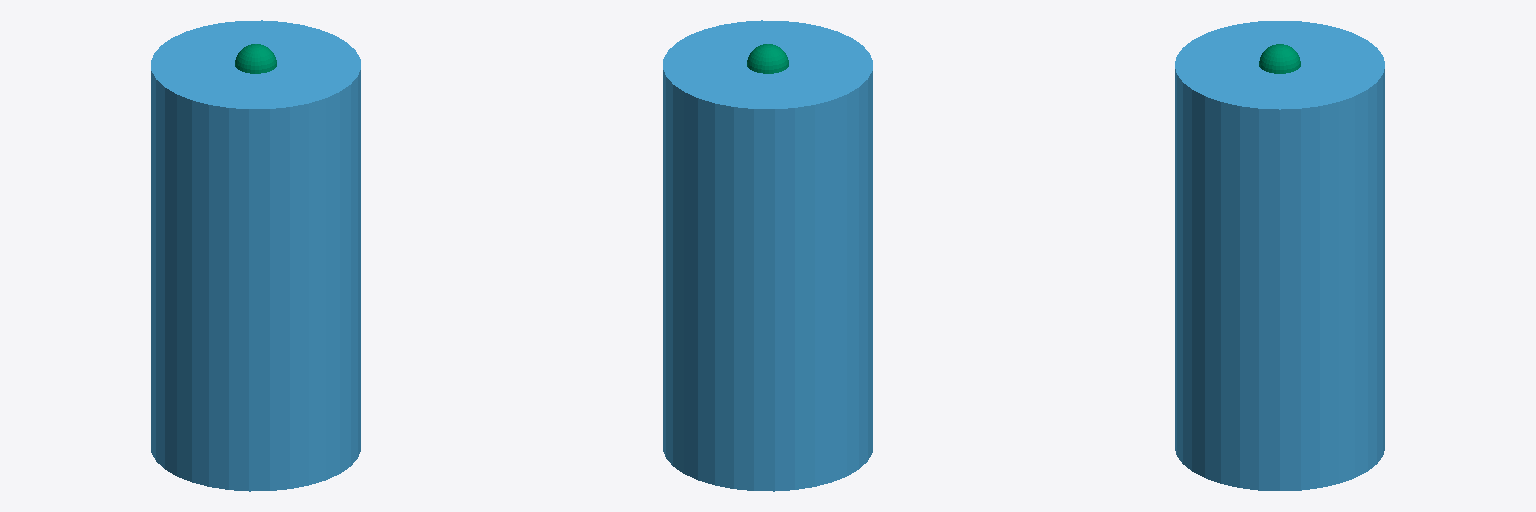
URDF robot description (passive_tool):
<?xml version="1.0" encoding="utf-8"?>
<!--
  ManyForge generic passive tool (OD-336): a neutral placeholder. A project
  replaces this file with its own tool model (see README.md). Links the
  family binds: passive_tool_mount (the root, on the robot flange),
  passive_tool_tcp (the default TCP) and the optional passive_tool_tip (the
  tip, the default TCP's contact body).
-->
<robot name="passive_tool">
  <link name="passive_tool_mount"/>
  <joint name="passive_tool_body_fix" type="fixed">
    <parent link="passive_tool_mount"/>
    <child link="passive_tool_body"/>
    <origin xyz="0 0 0" rpy="0 0 0"/>
  </joint>
  <link name="passive_tool_body">
    <visual>
      <origin xyz="0 0 0.05" rpy="0 0 0"/>
      <geometry>
        <cylinder radius="0.025" length="0.1"/>
      </geometry>
    </visual>
    <collision>
      <origin xyz="0 0 0.05" rpy="0 0 0"/>
      <geometry>
        <cylinder radius="0.025" length="0.1"/>
      </geometry>
    </collision>
  </link>
  <joint name="passive_tool_tip_fix" type="fixed">
    <parent link="passive_tool_body"/>
    <child link="passive_tool_tip"/>
    <origin xyz="0 0 0.1" rpy="0 0 0"/>
  </joint>
  <link name="passive_tool_tip">
    <visual>
      <geometry>
        <sphere radius="0.005"/>
      </geometry>
    </visual>
    <collision>
      <geometry>
        <sphere radius="0.005"/>
      </geometry>
    </collision>
  </link>
  <joint name="passive_tool_tcp_fix" type="fixed">
    <parent link="passive_tool_body"/>
    <child link="passive_tool_tcp"/>
    <origin xyz="0 0 0.1" rpy="0 0 0"/>
  </joint>
  <link name="passive_tool_tcp"/>
</robot>

--- Facts derived from the render (not from the file) ---
3 views of the same robot in one strip: view 1: azimuth 30°, elevation 25°; view 2: azimuth 150°, elevation 25°; view 3: azimuth 270°, elevation 25° (orthographic).
Robot: passive_tool — 4 links, 3 joints (3 fixed); root link passive_tool_mount; default pose: all joints at 0.
Visible links, largest first — view 1: passive_tool_body, passive_tool_tip; view 2: passive_tool_body, passive_tool_tip; view 3: passive_tool_body, passive_tool_tip.
Boxes of the visible links, x1,y1,x2,y2 form: passive_tool_body: (151, 20, 360, 491); passive_tool_tip: (235, 44, 276, 73); passive_tool_body: (663, 20, 872, 491); passive_tool_tip: (747, 44, 788, 73); passive_tool_body: (1175, 21, 1384, 490); passive_tool_tip: (1259, 44, 1300, 73).
Size in the robot's own frame: 0.05 by 0.05 by 0.105 metres.
Geometry: primitives only (box / cylinder / sphere), no mesh files.
